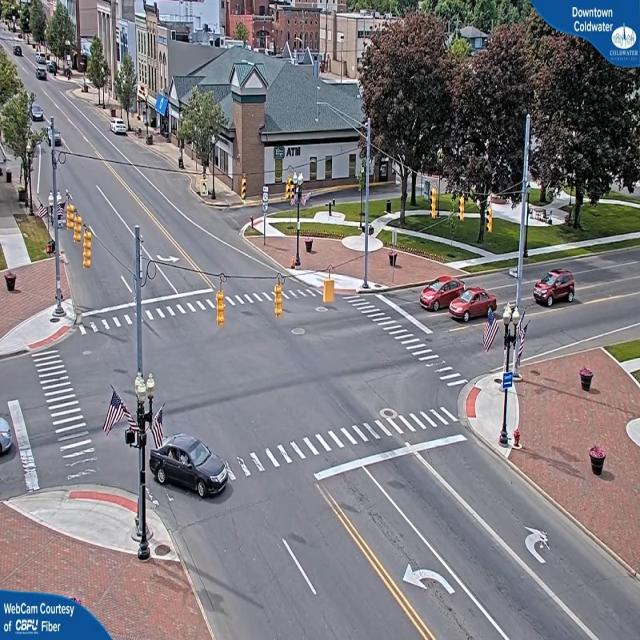car: (152, 433, 231, 499), (450, 282, 492, 325), (534, 267, 577, 306), (421, 275, 464, 314), (0, 414, 15, 458), (111, 120, 129, 136), (31, 105, 44, 121), (38, 66, 51, 80), (14, 46, 24, 58)
